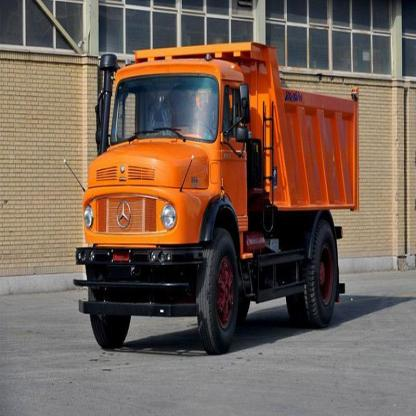Truck: (79, 37, 360, 354)
